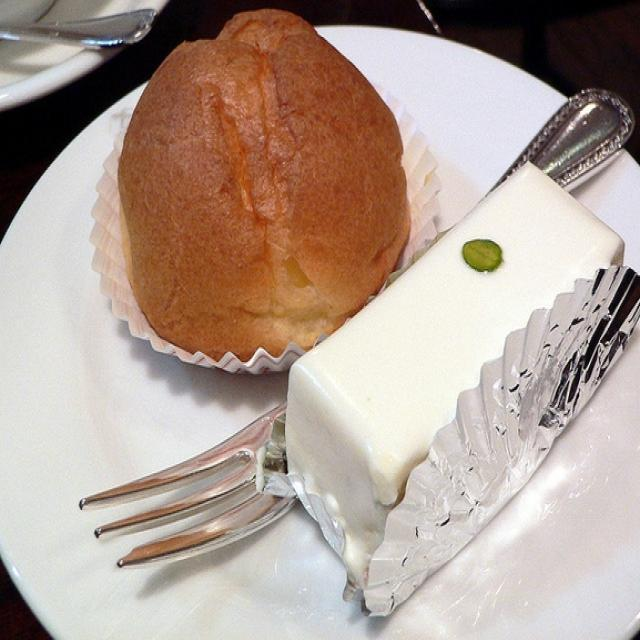Rare cheese cake: (274, 157, 632, 627)
